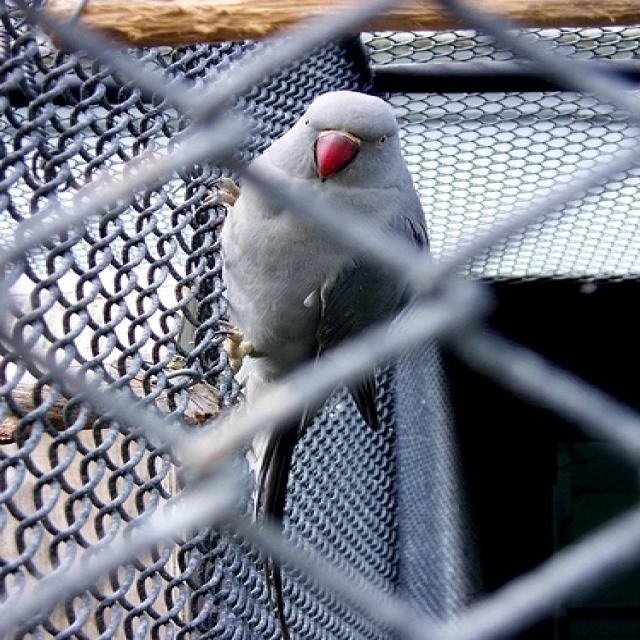bird: (211, 91, 431, 640)
